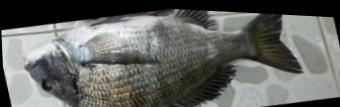fish: (19, 7, 301, 107)
